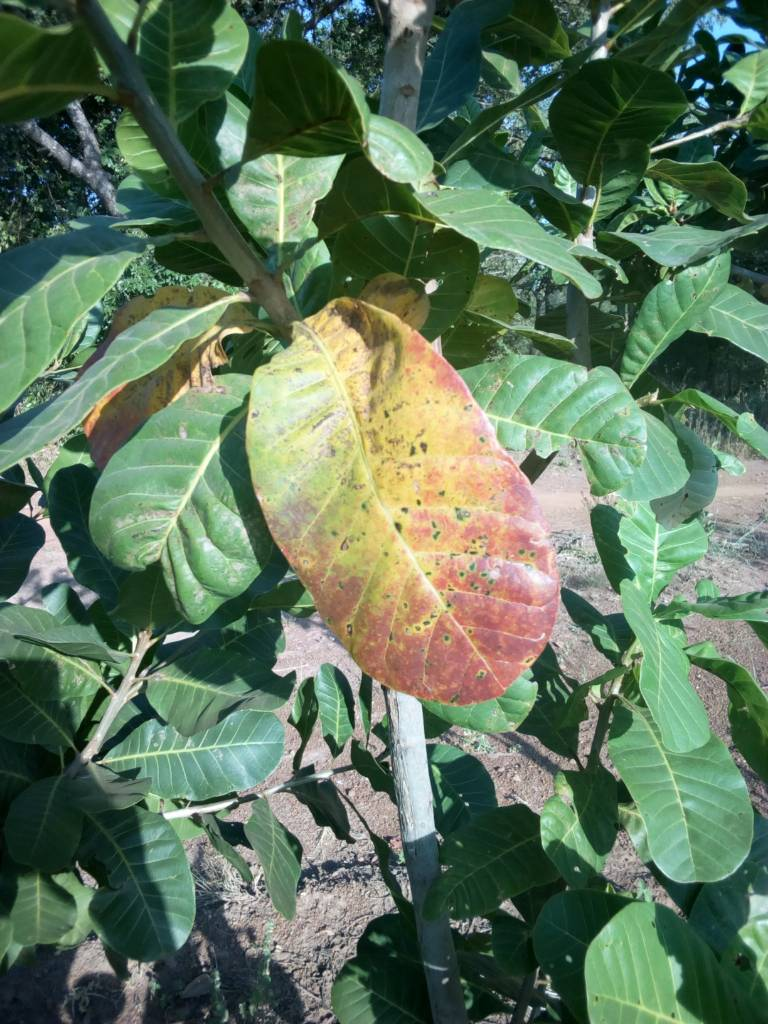Carence minérale: (234, 291, 577, 722)
